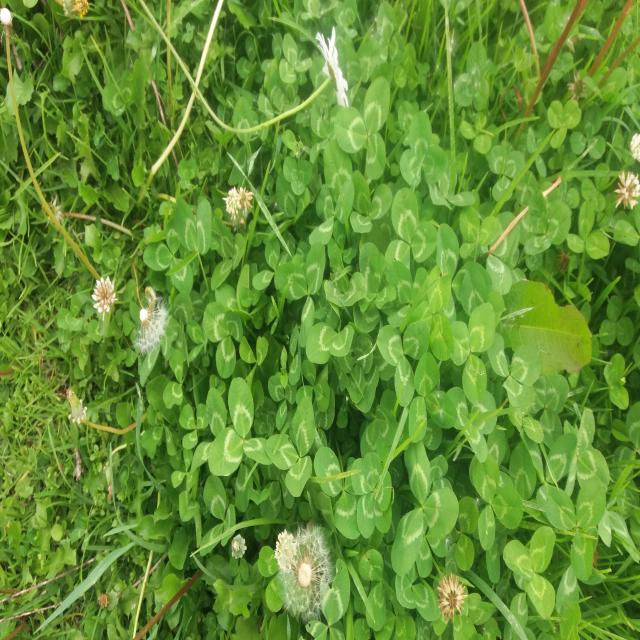Four Leaf Clover: (351, 452, 392, 539)
